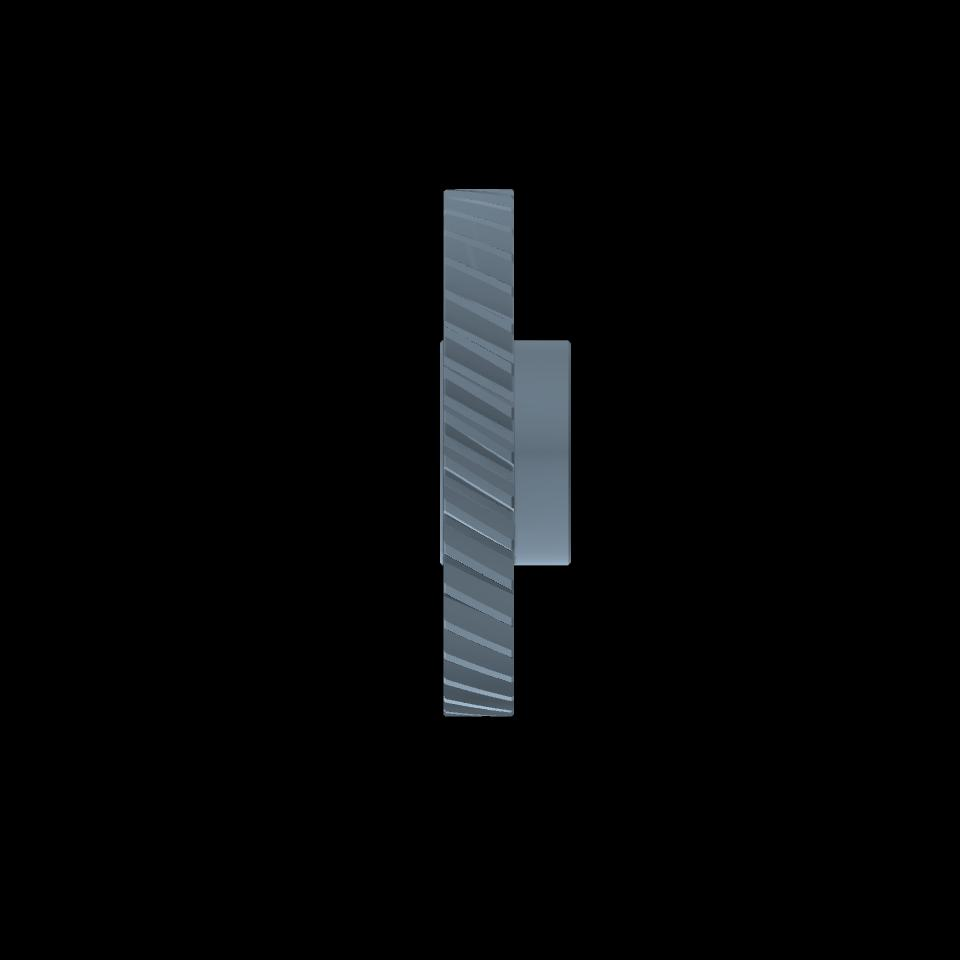Helical: (446, 190, 513, 716)
